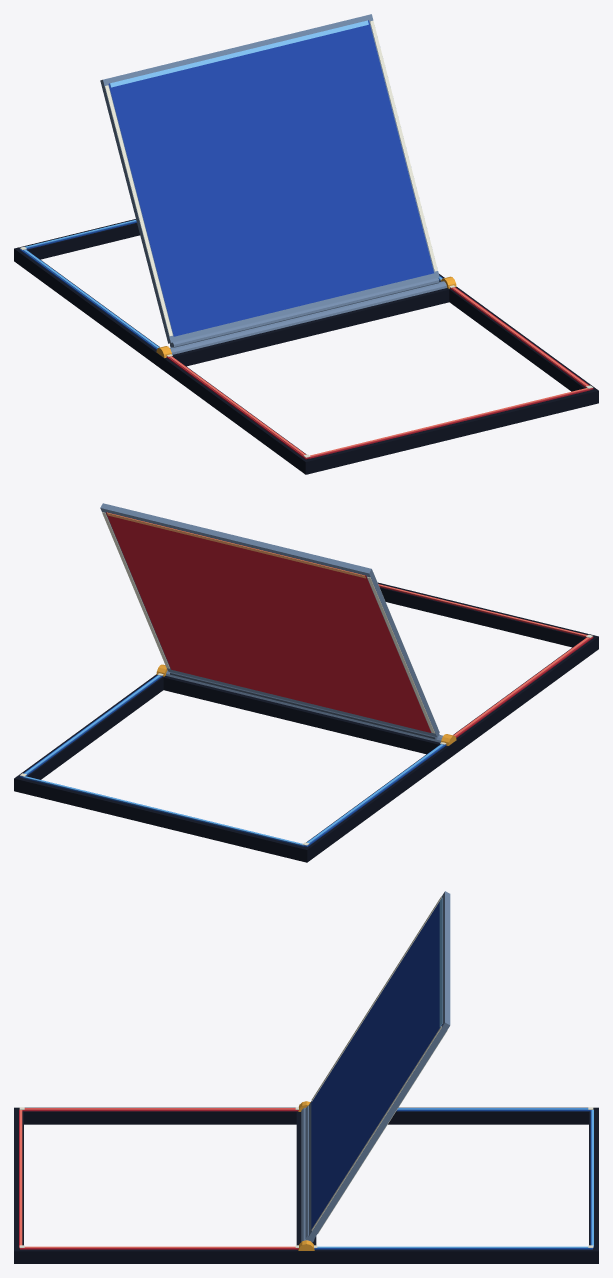
File: jump_flip_pair_flip_08.obj
3 renders of one model, top to bottom at view 1: azimuth 30°, elevation 25°; view 2: azimuth 150°, elevation 25°; view 3: azimuth 270°, elevation 25°, orthographic.
Visible parts, largest first — view 1: blue_top, red_end_shell, red_side_shell, reversible_leaf, blue_side_shell, blue_side_trim, hinge_axle, leaf_hinge, blue_end_shell, red_border, red_rim_light, blue_end_bar (+2 smaller); view 2: red_bottom, blue_end_shell, blue_side_shell, reversible_leaf, red_end_shell, red_side_shell, blue_rim_light, blue_border, red_side_trim, leaf_hinge, red_rim_light, red_end_bar (+2 smaller); view 3: blue_top, red_side_shell, blue_side_shell, reversible_leaf, red_border, red_end_shell, blue_border, red_rim_light, blue_rim_light, blue_end_shell, blue_side_trim, hinge_axle (+2 smaller).
Boxes of the visible parts, <box> form: blue_top: <box>108,20,433,336</box>; red_end_shell: <box>160,288,598,473</box>; red_side_shell: <box>160,287,598,474</box>; reversible_leaf: <box>100,14,439,343</box>; blue_side_shell: <box>14,246,444,363</box>; blue_side_trim: <box>105,20,437,336</box>; hinge_axle: <box>170,281,446,354</box>; leaf_hinge: <box>170,277,439,347</box>; blue_end_shell: <box>14,219,159,366</box>; red_border: <box>166,287,593,459</box>; red_rim_light: <box>169,287,588,457</box>; blue_end_bar: <box>110,20,368,87</box>; red_bottom: <box>106,512,431,732</box>; blue_end_shell: <box>14,675,452,862</box>; blue_side_shell: <box>14,674,452,862</box>; reversible_leaf: <box>100,503,439,736</box>; red_end_shell: <box>378,582,598,754</box>; red_side_shell: <box>453,635,598,755</box>; blue_rim_light: <box>23,675,443,845</box>; blue_border: <box>19,675,446,846</box>; red_side_trim: <box>102,512,434,733</box>; leaf_hinge: <box>170,672,439,740</box>; red_rim_light: <box>378,584,589,736</box>; red_end_bar: <box>107,512,365,578</box>; blue_top: <box>311,902,442,1229</box>; red_side_shell: <box>14,1107,306,1263</box>; blue_side_shell: <box>306,1107,598,1263</box>; reversible_leaf: <box>308,891,450,1238</box>; red_border: <box>19,1108,298,1249</box>; red_end_shell: <box>14,1107,306,1263</box>; blue_border: <box>314,1108,593,1249</box>; red_rim_light: <box>20,1108,295,1247</box>; blue_rim_light: <box>317,1108,593,1247</box>; blue_end_shell: <box>306,1108,598,1263</box>; blue_side_trim: <box>311,896,441,1230</box>; hinge_axle: <box>301,1107,309,1241</box>.
Size of the model in its own units: 11.6 by 8.88 by 20.
